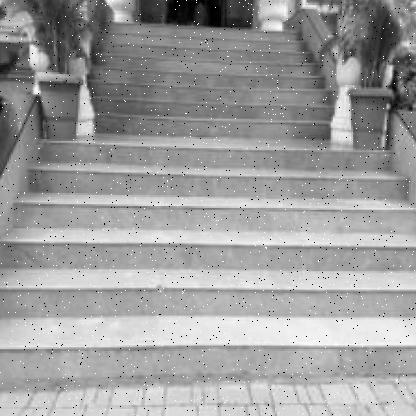stair_up: (14, 193, 400, 396)
